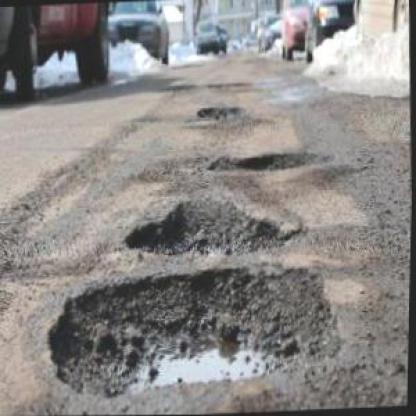pothole: (42, 260, 346, 400), (122, 190, 309, 261), (208, 148, 334, 174), (197, 101, 241, 121)
